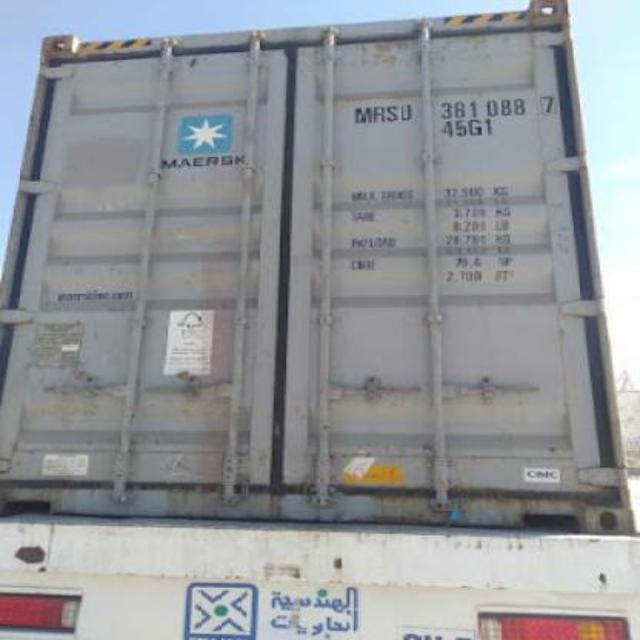0: (486, 97, 499, 117)
1: (466, 100, 482, 116)
3: (441, 100, 454, 122)
7: (538, 94, 560, 116)
8: (514, 97, 528, 115), (501, 99, 514, 117), (454, 102, 466, 118)
M: (354, 108, 374, 124)
R: (372, 105, 388, 125)
S: (386, 105, 399, 123)
U: (398, 103, 416, 121)
